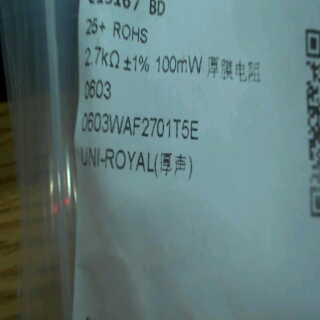2.7kR: (81, 47, 122, 74)
